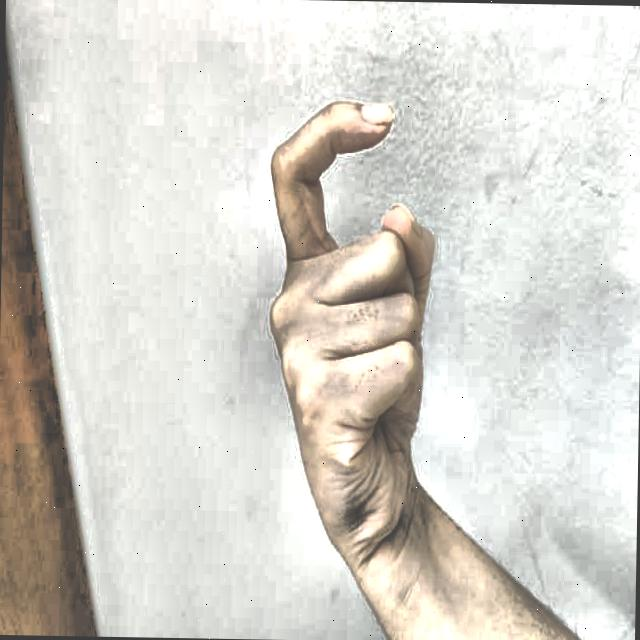E: (226, 67, 499, 556)
